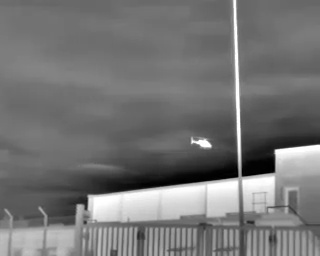HELICOPTER: (187, 132, 216, 155)
